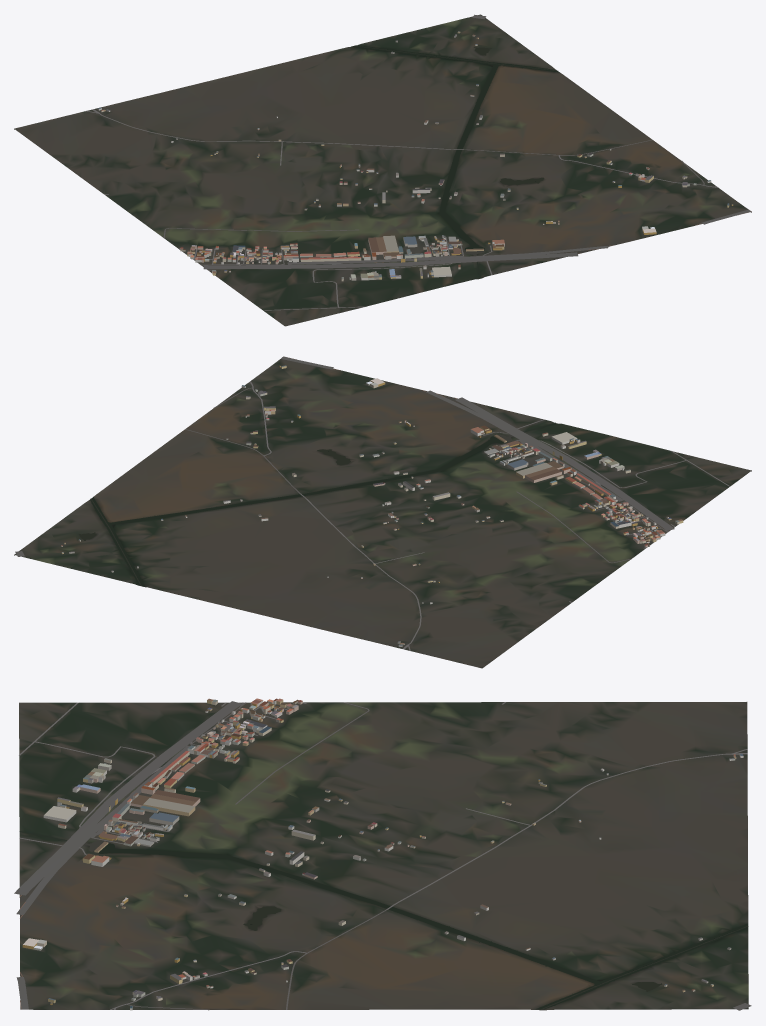
3 views of the same model, one above another, from view 1: azimuth 30°, elevation 25°; view 2: azimuth 150°, elevation 25°; view 3: azimuth 270°, elevation 25° (orthographic). The views are drawn at different scales.
Parts seen in each view (by area): view 1: ground, buildings, roads, water; view 2: ground, buildings, roads, water; view 3: ground, buildings, roads, water.
Part boxes in pixels (x1,y1,x2,y2): ground: (14, 14, 751, 326); buildings: (97, 31, 733, 281); roads: (86, 14, 751, 310); water: (351, 45, 559, 278); ground: (14, 356, 751, 668); buildings: (61, 365, 683, 646); roads: (15, 356, 730, 650); water: (78, 422, 555, 586); ground: (19, 702, 748, 1010); buildings: (22, 698, 743, 1010); roads: (14, 701, 751, 1010); water: (19, 831, 748, 1009).
Size of the model in its own units: 1411 by 14.64 by 1420.
